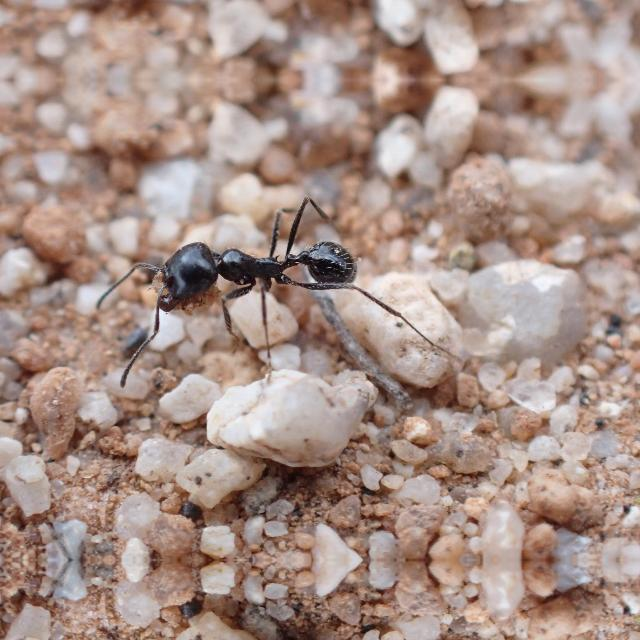Messor: (102, 216, 376, 348)
